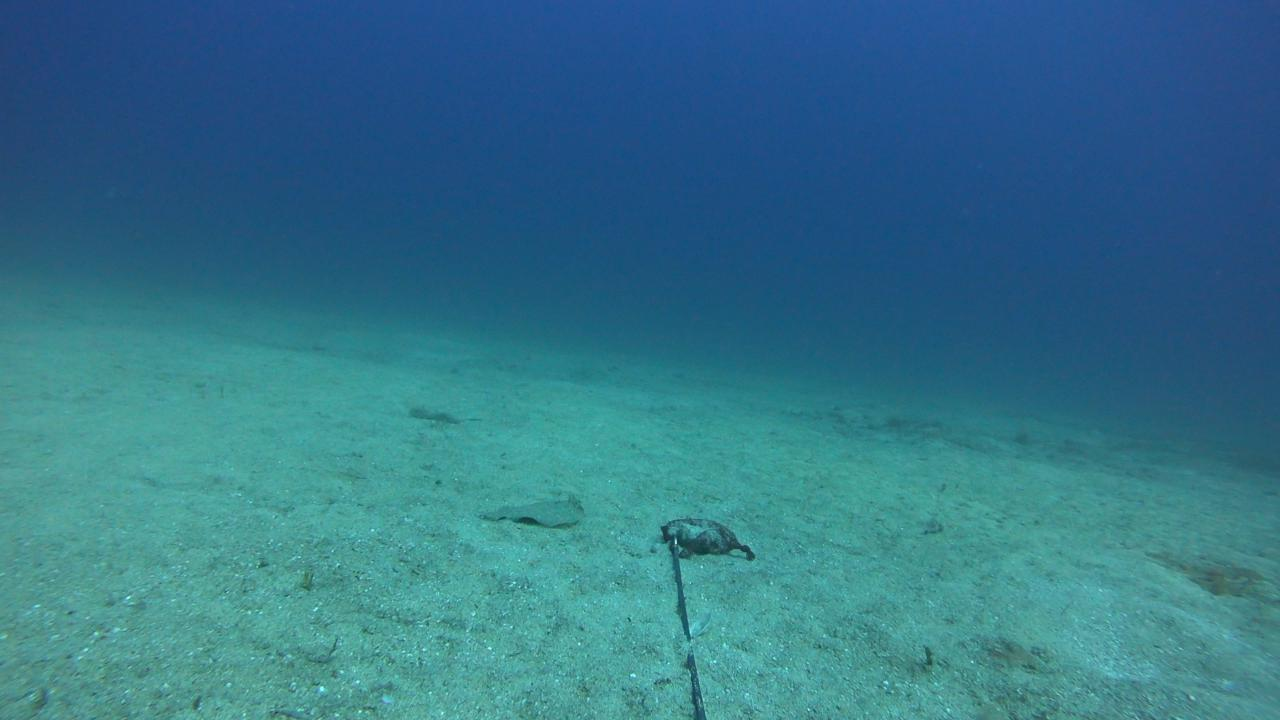bothus: (475, 488, 590, 534)
